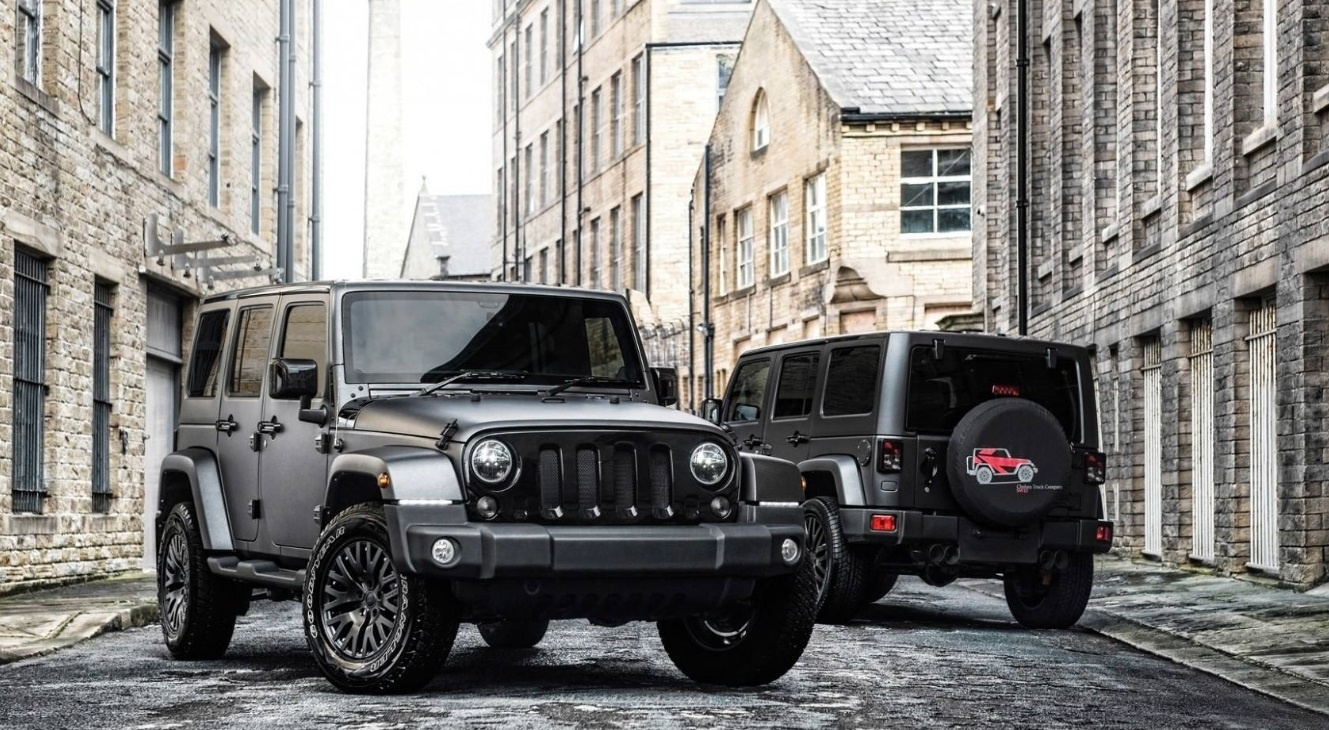jeep: (120, 277, 823, 679), (725, 325, 1156, 625)
